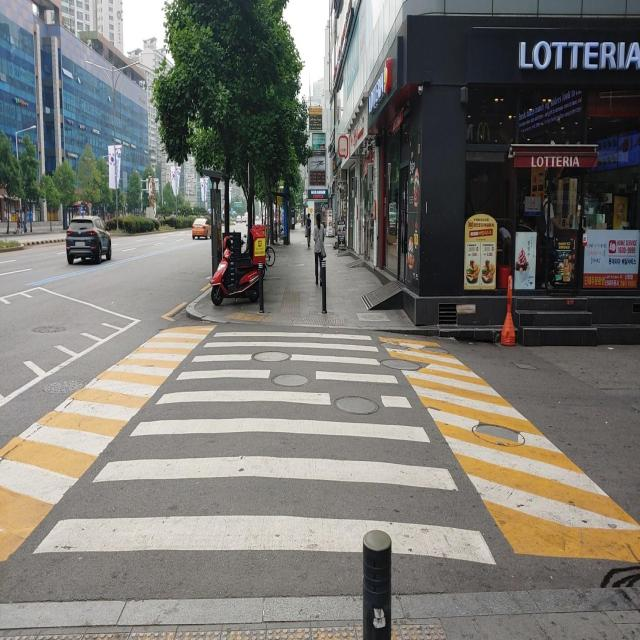횡단보도: (31, 326, 498, 571)
